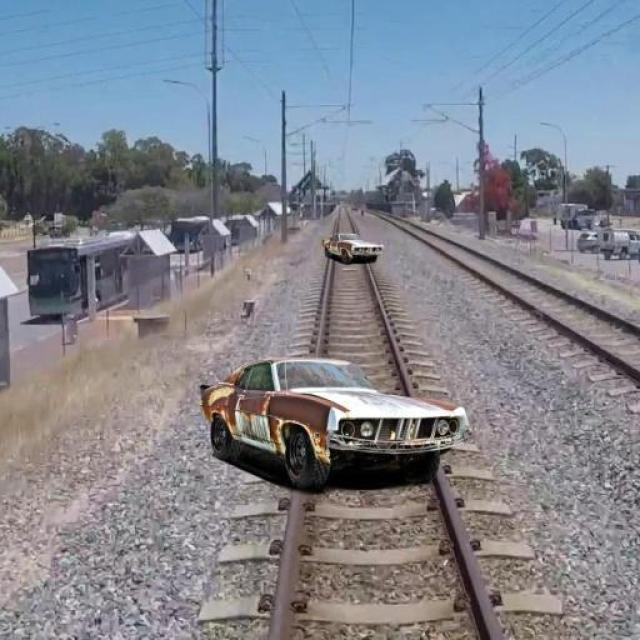vehicle: (194, 350, 470, 492), (315, 227, 392, 268)
